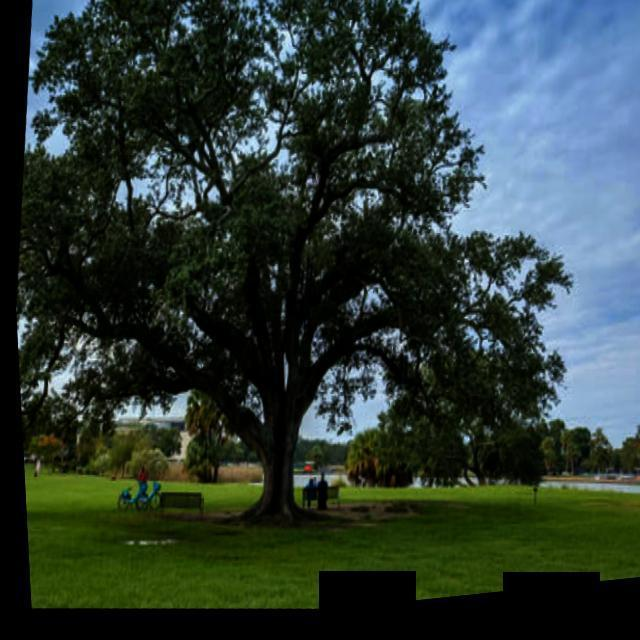tree: (0, 0, 600, 587), (367, 222, 586, 520), (166, 368, 242, 492), (402, 415, 469, 499), (490, 422, 544, 504), (16, 389, 71, 467), (64, 394, 115, 478), (459, 428, 513, 501), (366, 424, 416, 494), (109, 418, 176, 470), (336, 430, 384, 498), (528, 428, 572, 493), (577, 434, 615, 490), (609, 426, 640, 494), (120, 443, 166, 485), (552, 436, 588, 488)
